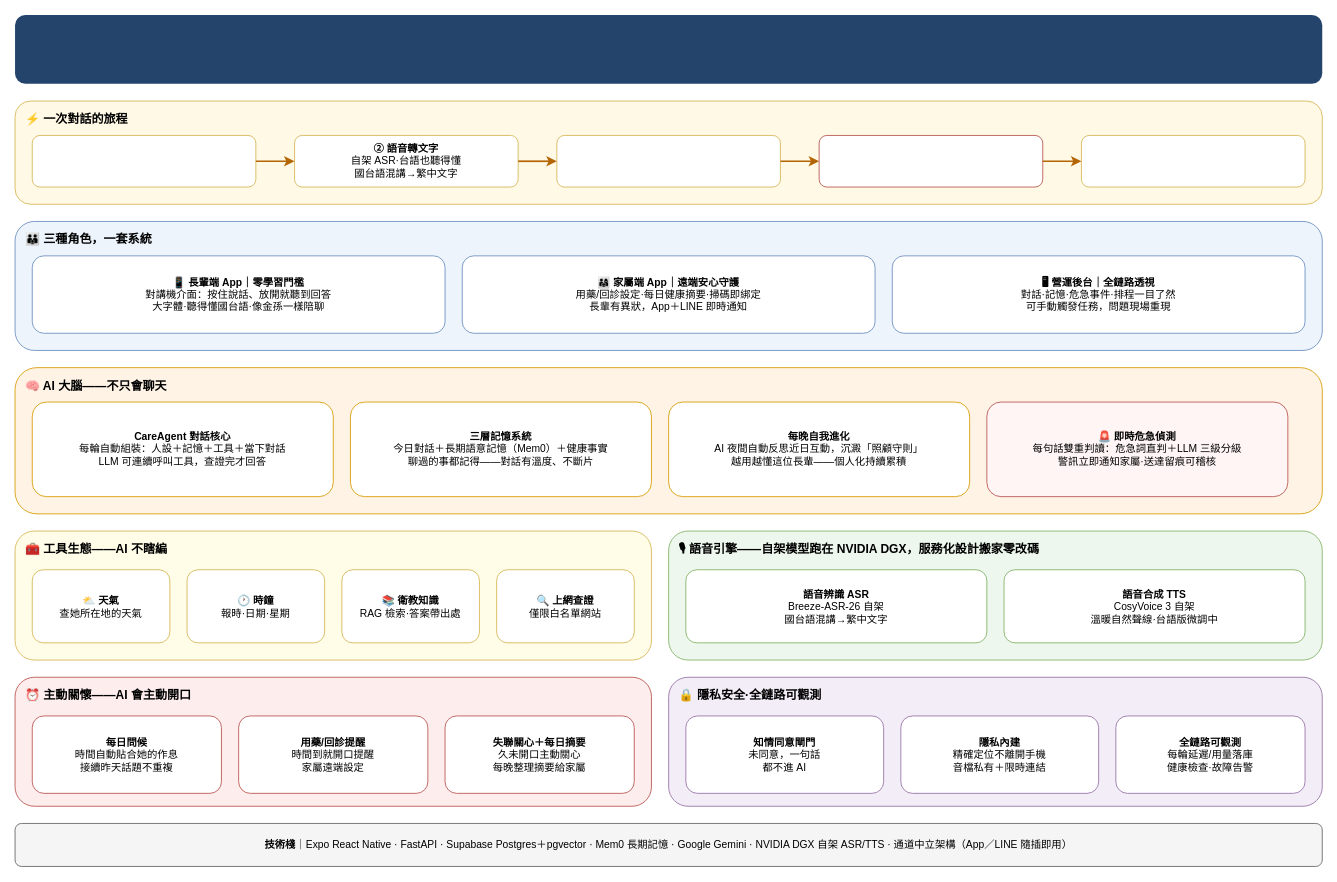
The diagram is 1337 pixels wide and 882 high, and some of its shapes have lost their labels. The centre of each missing label's shape, as x and y in pixels:
"① 按住說話 長輩對 App 講國台語 大字對講機·零學習門檻" goes at point 143,161.
"③ AI 金孫思考 帶著記憶·查工具·守人設 像認識多年的孫子在回話" goes at point 668,161.
"④ 危急同步偵測 每句話同步分級判讀 有警訊即刻通知家屬" goes at point 930,161.
"⑤ 語音播回 自架 TTS 溫暖聲線 長輩放開手就聽到回答" goes at point 1193,161.
"金孫 KinSun｜聽得懂台語的 AI 金孫 會記得、會關心、會守護的長輩語音陪伴系統——長輩按住說話，AI 像孫子一樣回應；家屬遠端安心守護" goes at point 668,49.
